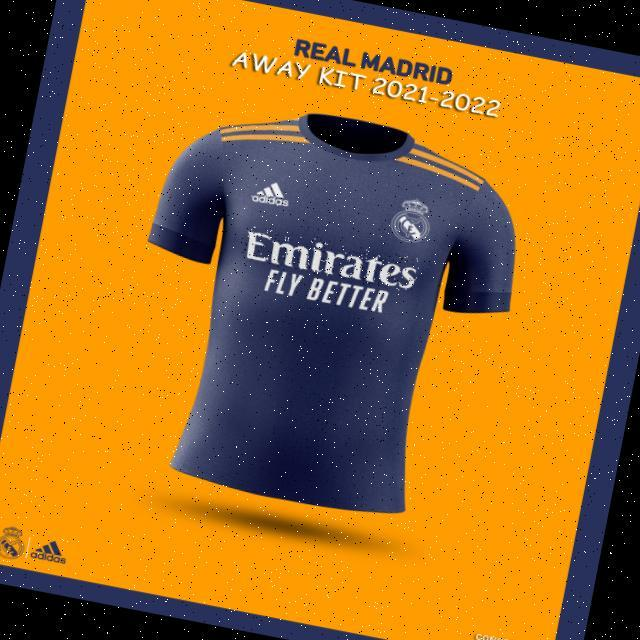Adidas: (250, 177, 294, 210)
Emirates: (242, 226, 421, 294)
